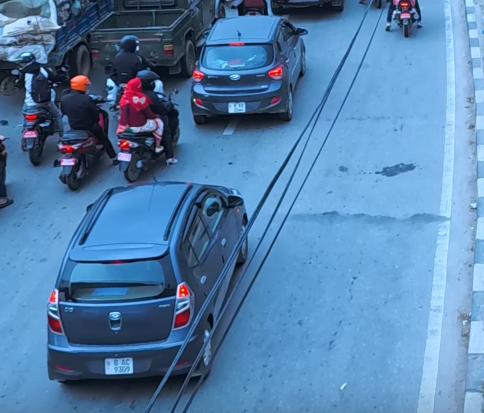car: (49, 180, 250, 382), (188, 14, 309, 126)
scooter: (116, 95, 184, 183), (55, 88, 114, 188)
